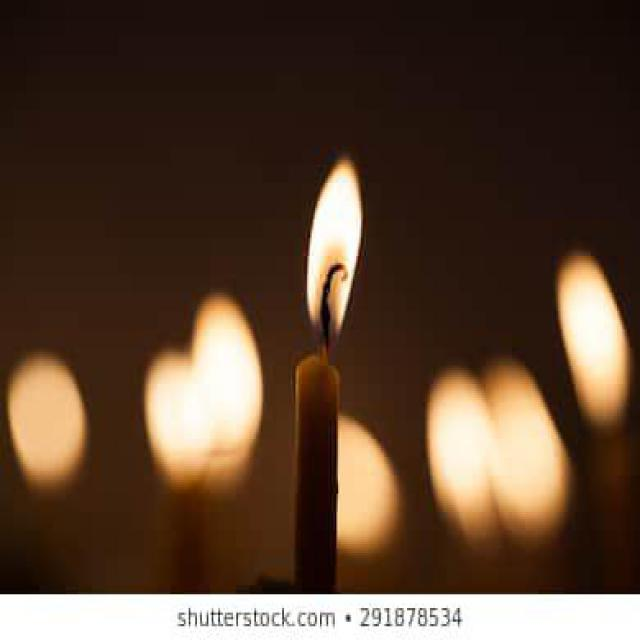Fire: (307, 154, 363, 344)
